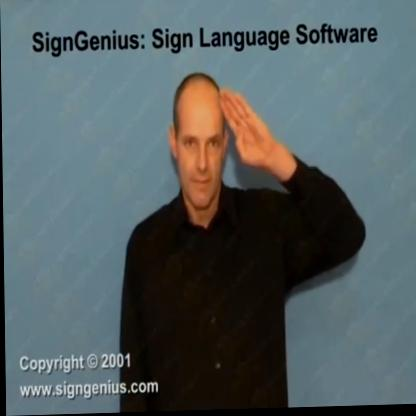Hello: (166, 66, 292, 232)
